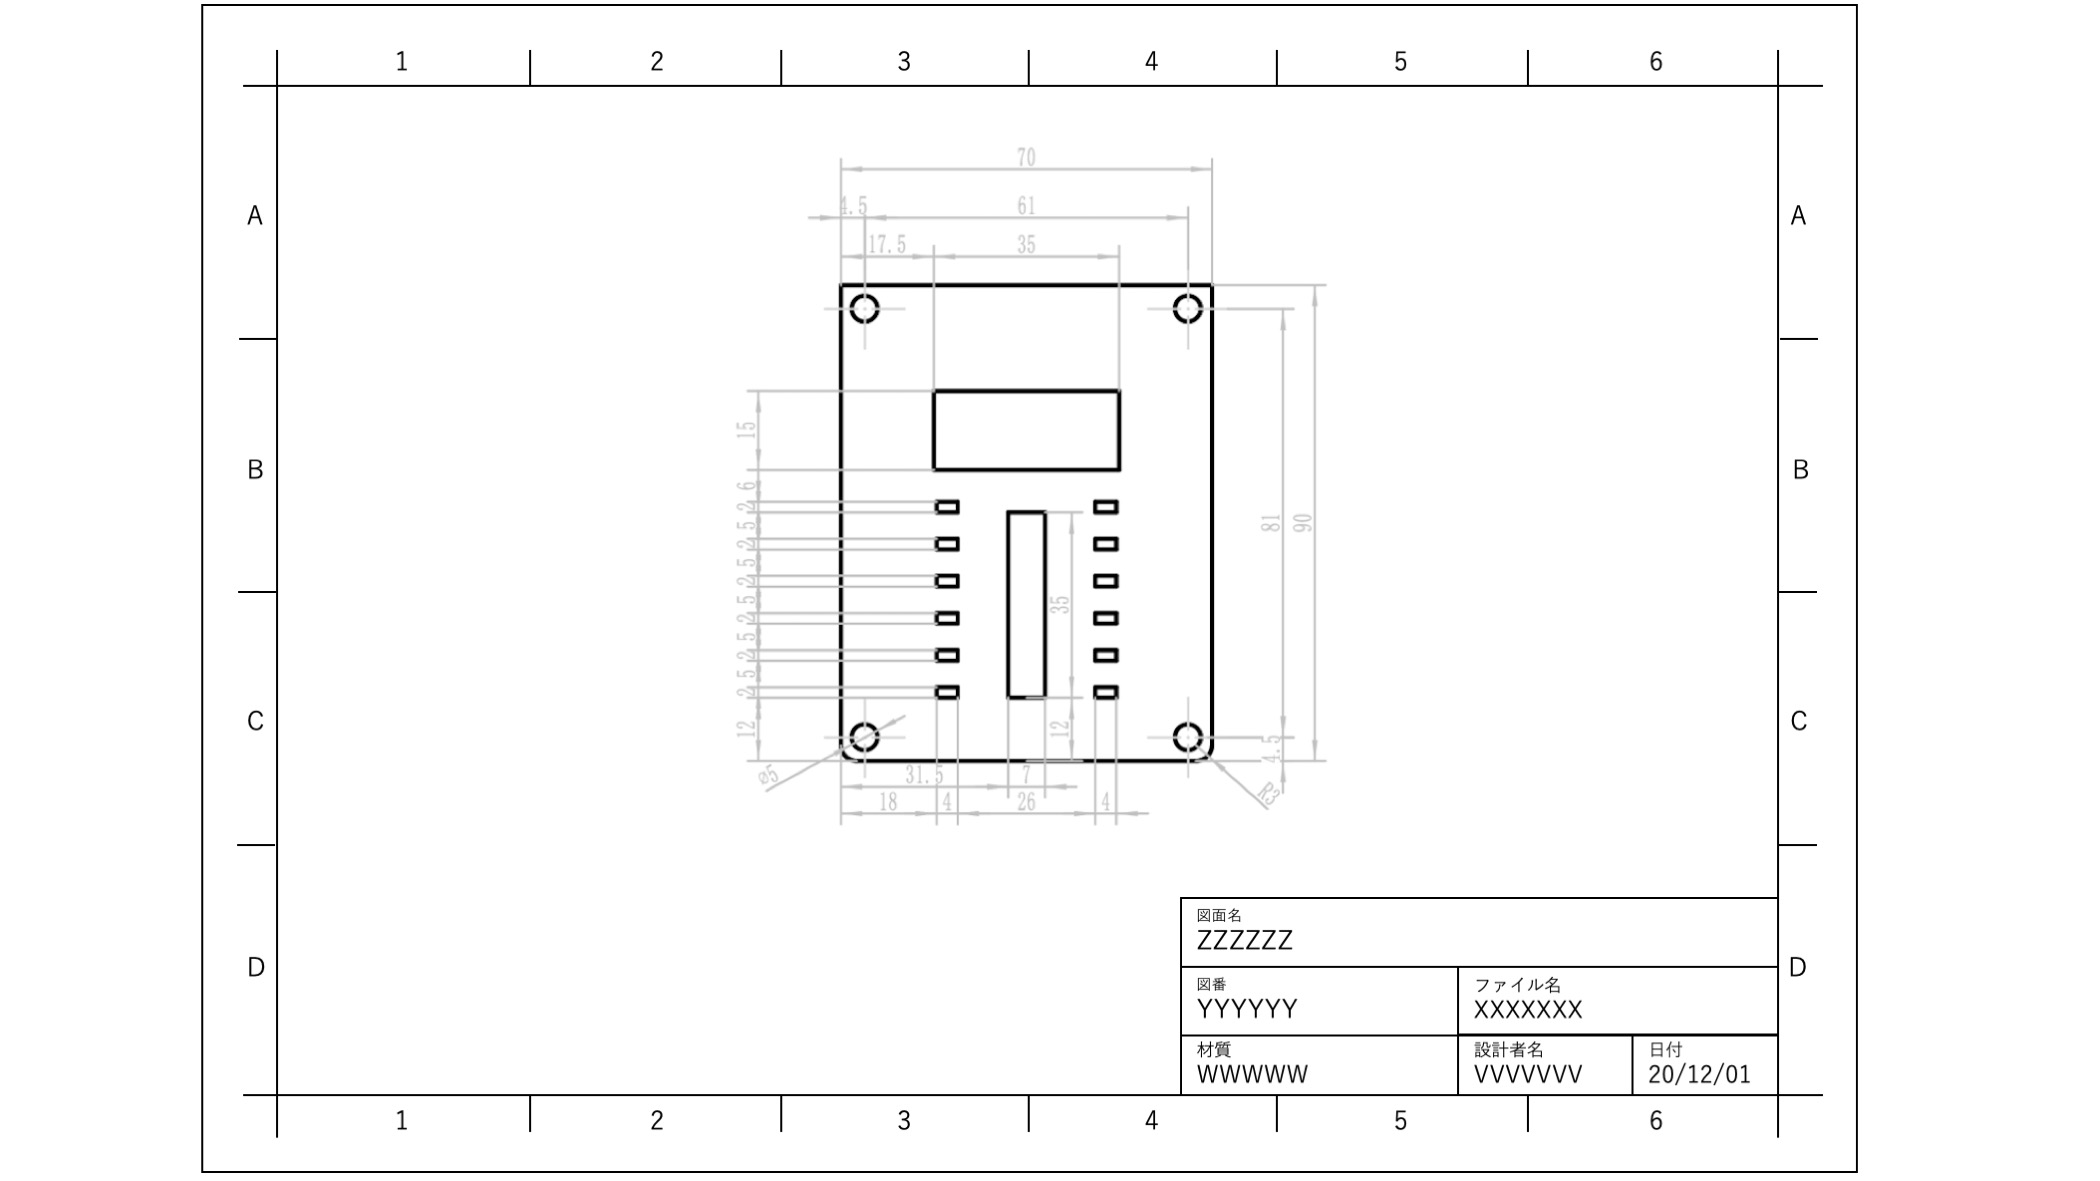circle: (1171, 712, 1212, 761), (845, 287, 887, 324), (1164, 291, 1204, 327), (847, 718, 888, 753)
rectangle: (922, 375, 1134, 482), (989, 502, 1059, 707), (1079, 601, 1125, 632), (930, 600, 972, 630), (930, 493, 997, 512), (925, 678, 966, 707), (927, 562, 966, 593), (1085, 531, 1129, 557), (1085, 679, 1131, 704), (925, 637, 961, 665), (1087, 490, 1124, 518), (1087, 642, 1126, 665), (930, 534, 968, 551), (1087, 570, 1124, 581)
